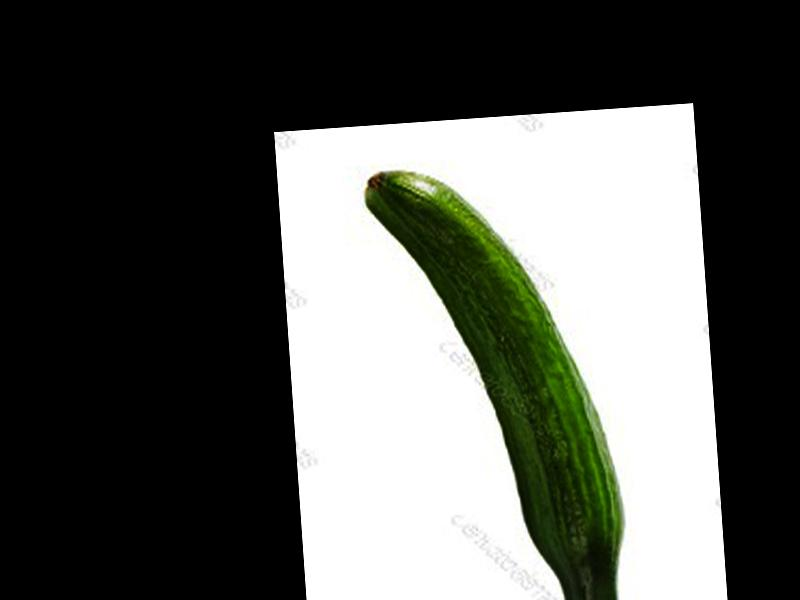Cucumber: (361, 157, 630, 600)
